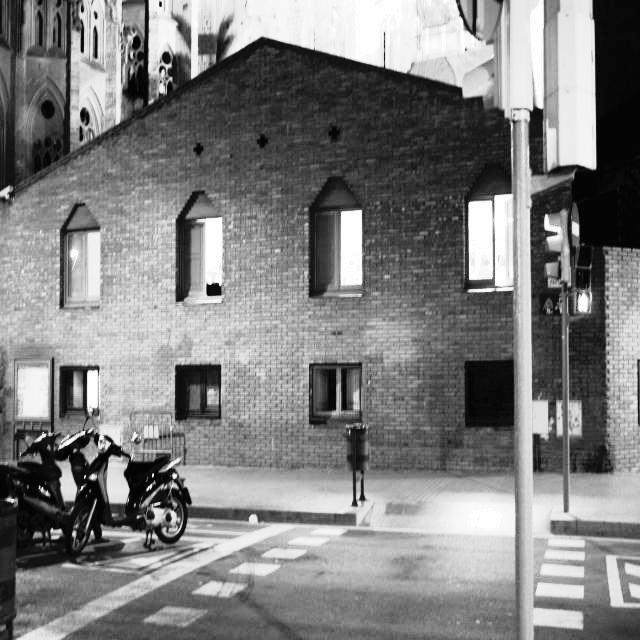Motorcycle: (66, 415, 196, 575), (20, 425, 117, 554), (5, 439, 73, 523)
